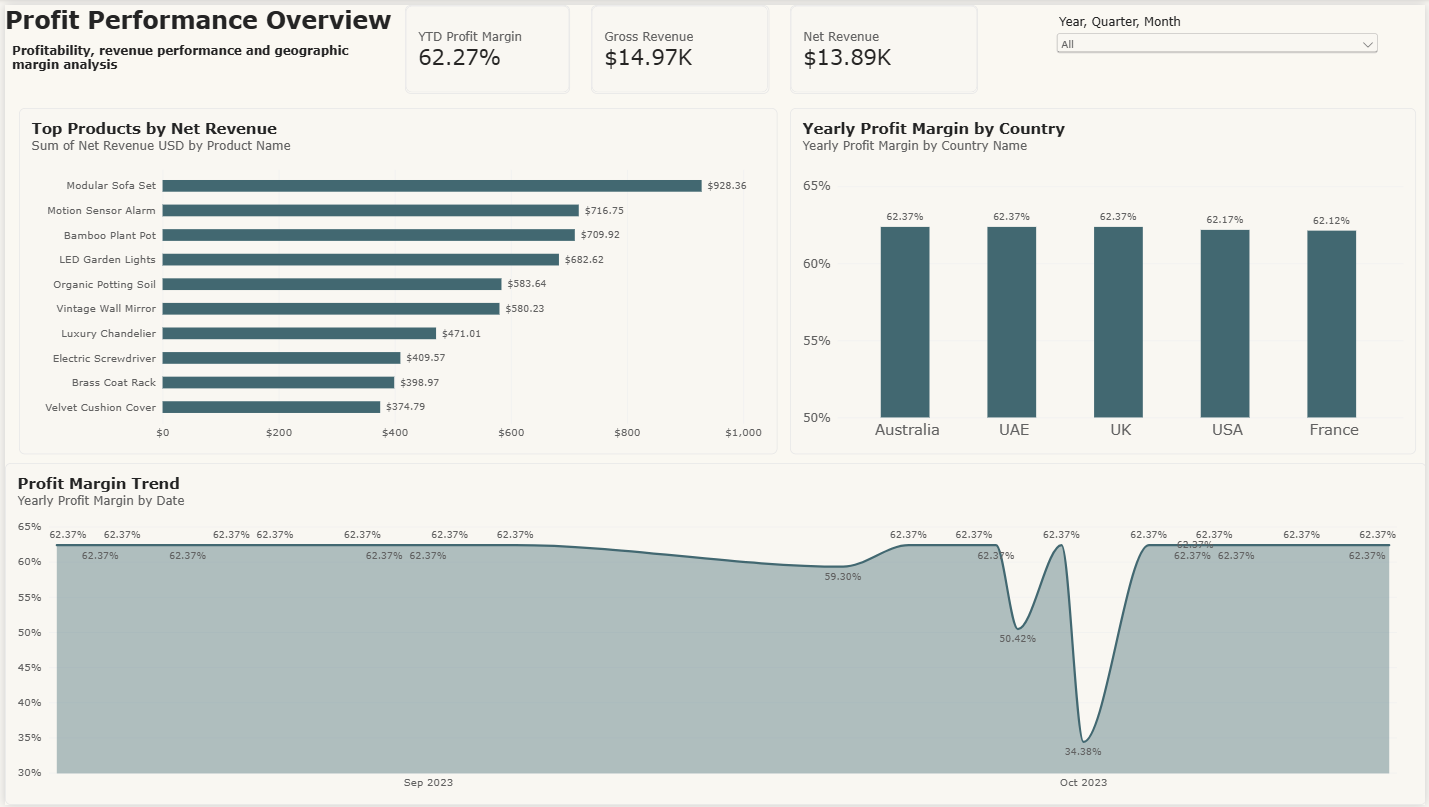

Layout of this report page (visuals, bound fields, positions):
{"tool":"powerbi","page":{"name":"Profit Overview","canvas":[1920,1080],"ordinal":1},"visuals":[{"type":"clusteredBarChart","title":"Top Products by Net Revenue","fields":{"Category":["Sales in USD.Product Name"],"Y":["Sum(Sales in USD.Net Revenue USD)"]},"box":[18.6,139.7,1025.5,468.2],"z":0},{"type":"clusteredColumnChart","title":"Yearly Profit Margin by Country","fields":{"Category":["Sales in USD.Country Name"],"Y":["Sales in USD.Yearly Profit Margin"]},"box":[1061.4,139.7,845.9,468.2],"z":1},{"type":"areaChart","title":"Profit Margin Trend","fields":{"Category":["CalendarTable.Date"],"Y":["Sales in USD.Yearly Profit Margin"]},"box":[0,618.5,1920.6,461.5],"z":2},{"type":"cardVisual","fields":{"Data":["Sales in USD.YTD Profit"]},"box":[540,0,223.4,119.7],"z":3},{"type":"cardVisual","fields":{"Data":["Sum(Sales in USD.Net Revenue USD)"]},"box":[1061.4,0,254,119.7],"z":4},{"type":"cardVisual","fields":{"Data":["Sum(Sales in USD.Gross Revenue USD)"]},"box":[791.4,0,240.7,119.7],"z":5},{"type":"slicer","fields":{"Values":["CalendarTable.Date.Variation.Date Hierarchy.Year","CalendarTable.Date.Variation.Date Hierarchy.Quarter","CalendarTable.Date.Variation.Date Hierarchy.Month"]},"box":[1416,12,444,60],"z":6},{"type":"textbox","box":[0,0,540,42.7],"z":7},{"type":"textbox","box":[9.3,52,505.3,40],"z":8}]}

Visuals, with their boxes in screenshot pixels (x1, y1, x2, y2), scaled from the page's 1920x1080 canvas onto the 1429x807 screenshot:
"Top Products by Net Revenue" clusteredBarChart: 14/104/777/454
"Yearly Profit Margin by Country" clusteredColumnChart: 790/104/1420/454
"Profit Margin Trend" areaChart: 0/462/1428/806
cardVisual - Sales in USD.YTD Profit: 402/0/568/89
cardVisual - Sum(Sales in USD.Net Revenue USD): 790/0/979/89
cardVisual - Sum(Sales in USD.Gross Revenue USD): 589/0/768/89
slicer - CalendarTable.Date.Variation.Date Hierarchy.Year x CalendarTable.Date.Variation.Date Hierarchy.Quarter: 1054/9/1384/54
textbox: 0/0/402/32
textbox: 7/39/383/69
